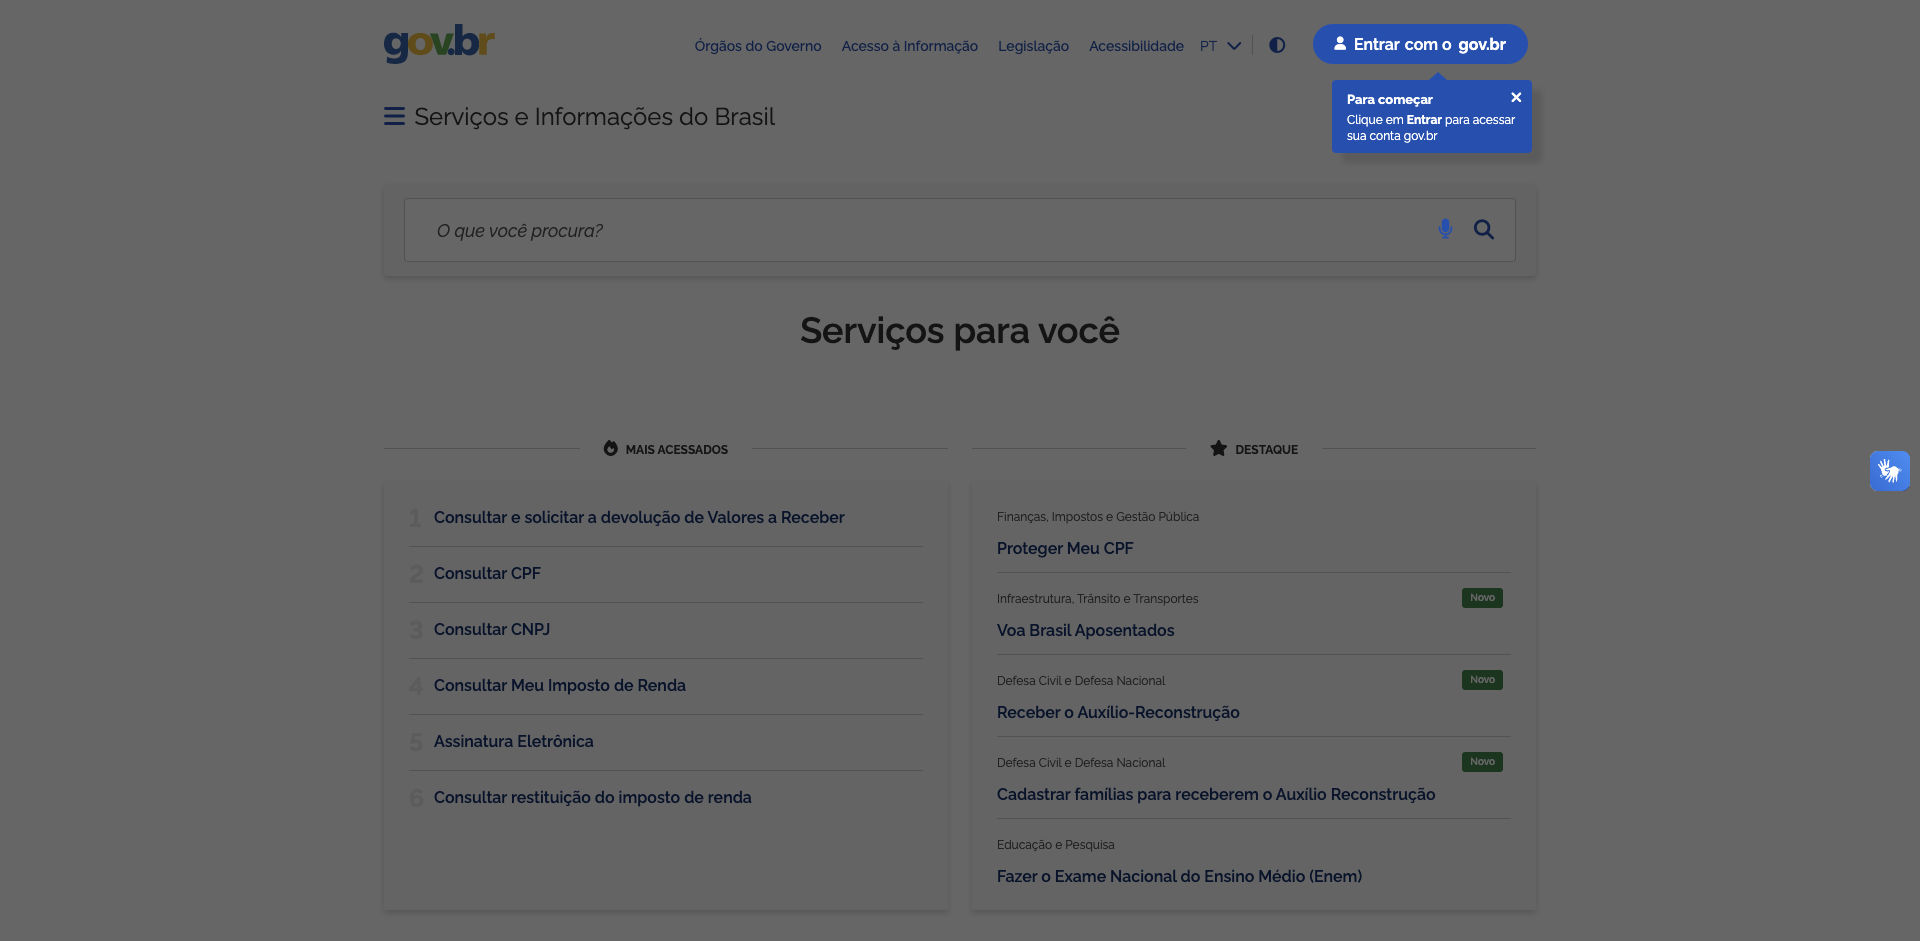button: (1463, 210, 1505, 251), (1870, 451, 1910, 490), (1427, 210, 1464, 250)
dropdown: (0, 0, 1920, 161), (404, 198, 1516, 262)
input: (405, 200, 1453, 261)
label: (1455, 203, 1513, 257)
link: (997, 506, 1511, 573), (997, 588, 1511, 656), (997, 670, 1511, 738), (997, 752, 1511, 820), (997, 834, 1511, 886), (409, 506, 923, 548), (409, 674, 923, 716), (409, 730, 923, 772), (409, 562, 923, 603), (409, 619, 923, 659), (415, 103, 775, 132), (409, 787, 923, 806), (384, 25, 495, 64), (1854, 875, 1904, 925), (841, 36, 978, 54), (694, 36, 822, 54), (1089, 36, 1184, 54), (998, 36, 1069, 54), (378, 100, 410, 132), (1221, 32, 1245, 58), (1265, 36, 1289, 54)
